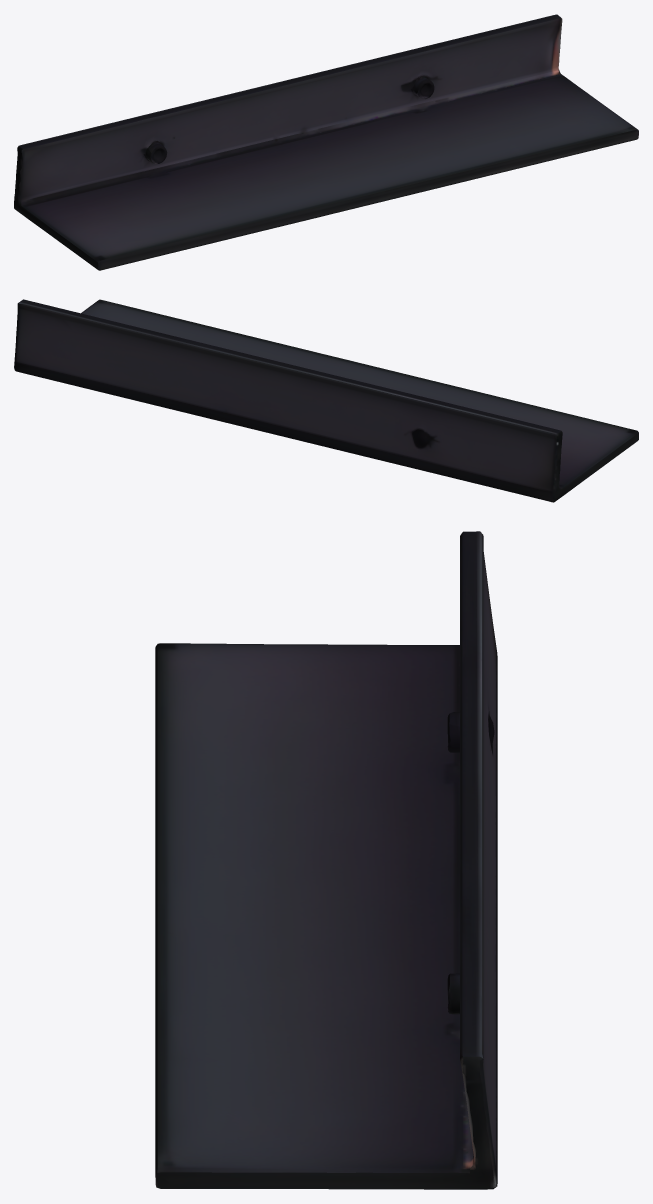
The model's file is EtagereMetal_3D_textured.glb.
3 renders of one model, top to bottom at view 1: azimuth 30°, elevation 25°; view 2: azimuth 150°, elevation 25°; view 3: azimuth 270°, elevation 25°, orthographic. The views are drawn at different scales.
Parts seen in each view (by area): view 1: temp_mesh.ply; view 2: temp_mesh.ply; view 3: temp_mesh.ply.
Part boxes in pixels (left/top/right/bottom): temp_mesh.ply: left=14, top=14, right=638, bottom=270; temp_mesh.ply: left=14, top=299, right=638, bottom=502; temp_mesh.ply: left=155, top=531, right=497, bottom=1189.
Size of the model in its own units: 1.97 by 0.2333 by 0.5412.
Materials: 1 (1 with a texture image).
